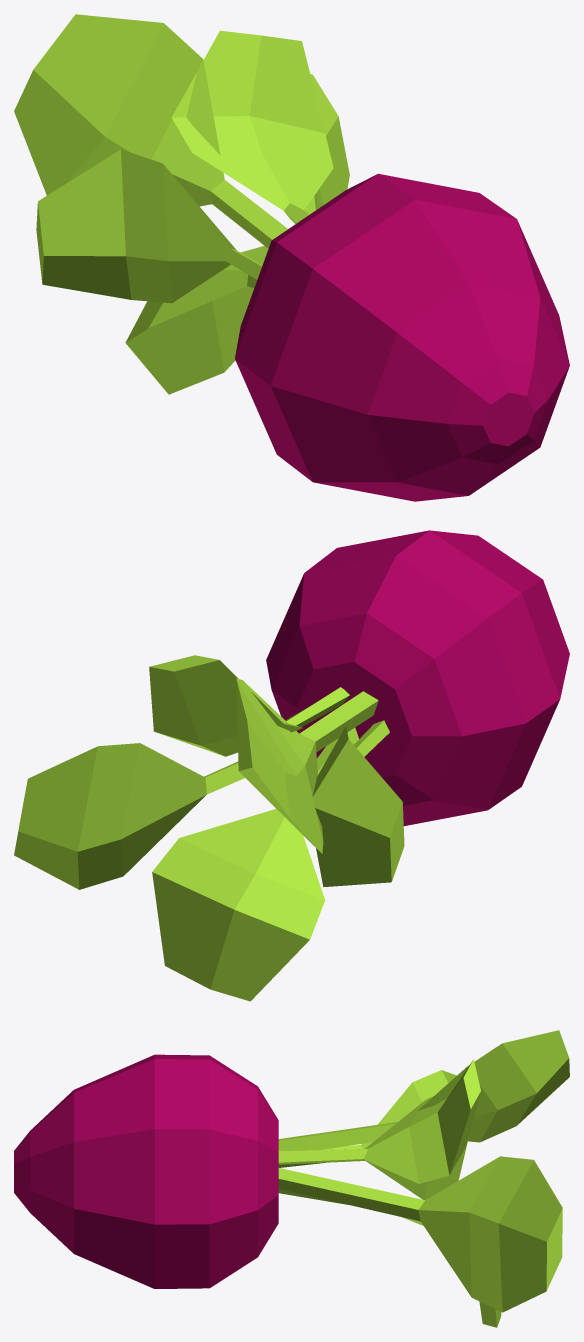
The model's file is beetroot.fbx.
3 renders of one model, top to bottom at view 1: azimuth 30°, elevation 25°; view 2: azimuth 150°, elevation 25°; view 3: azimuth 270°, elevation 25°, orthographic. The views are drawn at different scales.
Parts seen in each view (by area): view 1: Beetroot; view 2: Beetroot; view 3: Beetroot.
Boxes of the visible parts, <box> form: Beetroot: <box>14,14,569,501</box>; Beetroot: <box>14,530,569,1001</box>; Beetroot: <box>14,1030,569,1327</box>.
Size of the model in its own units: 332 by 311 by 577.
